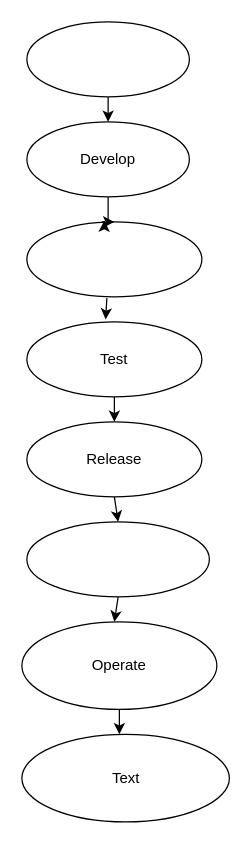
This 251x844 diagram has some shape labels left out. The shapes that lost their labels are listed below. From the top down, each one's centre as x and y in pixels, then its label:
the point at 107,59: Plan
the point at 114,259: Build
the point at 117,559: Deploy
